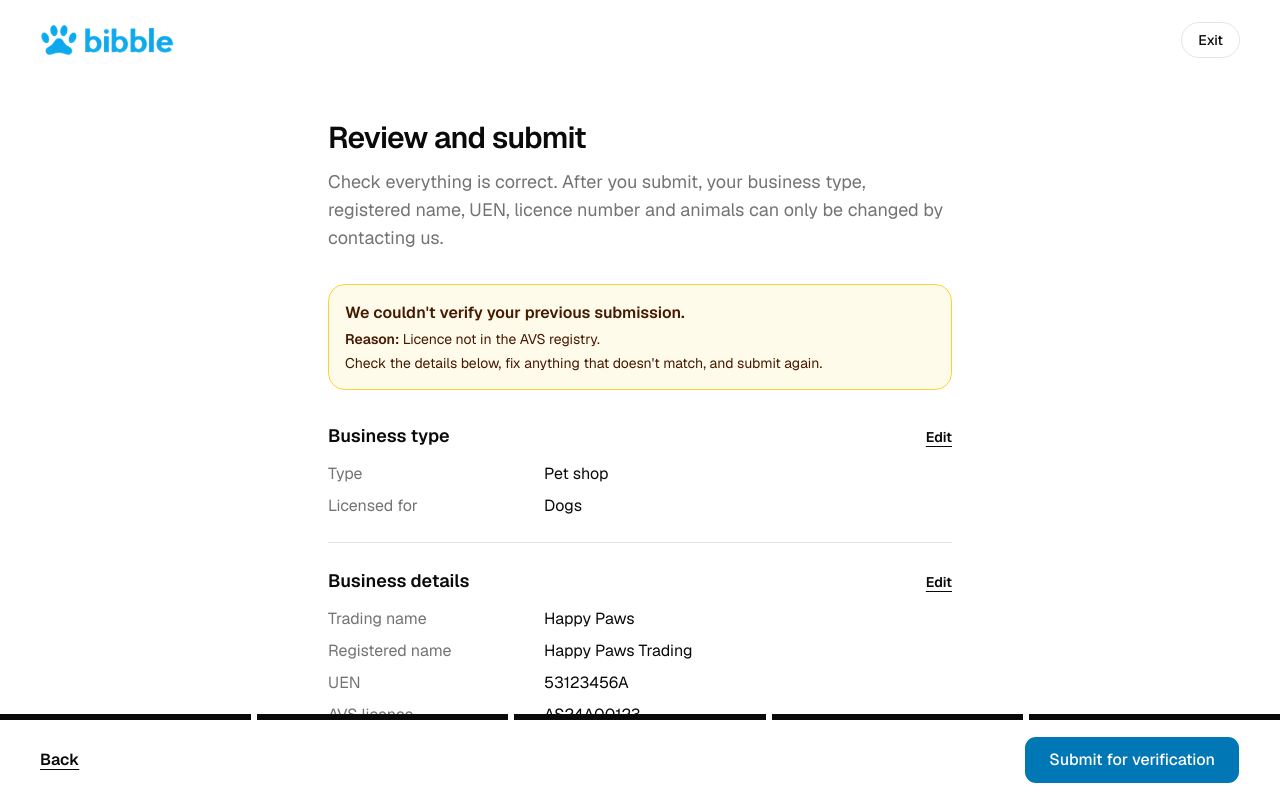
Review step › explains a rejection and shows submit errors
Expected: the text "We couldn't verify your previous submission." is shown, [345,302,685,323]
Step 1. Click the button "Submit for verification" → point(1132, 760), box [1024,736,1240,784]
(page scrolled)
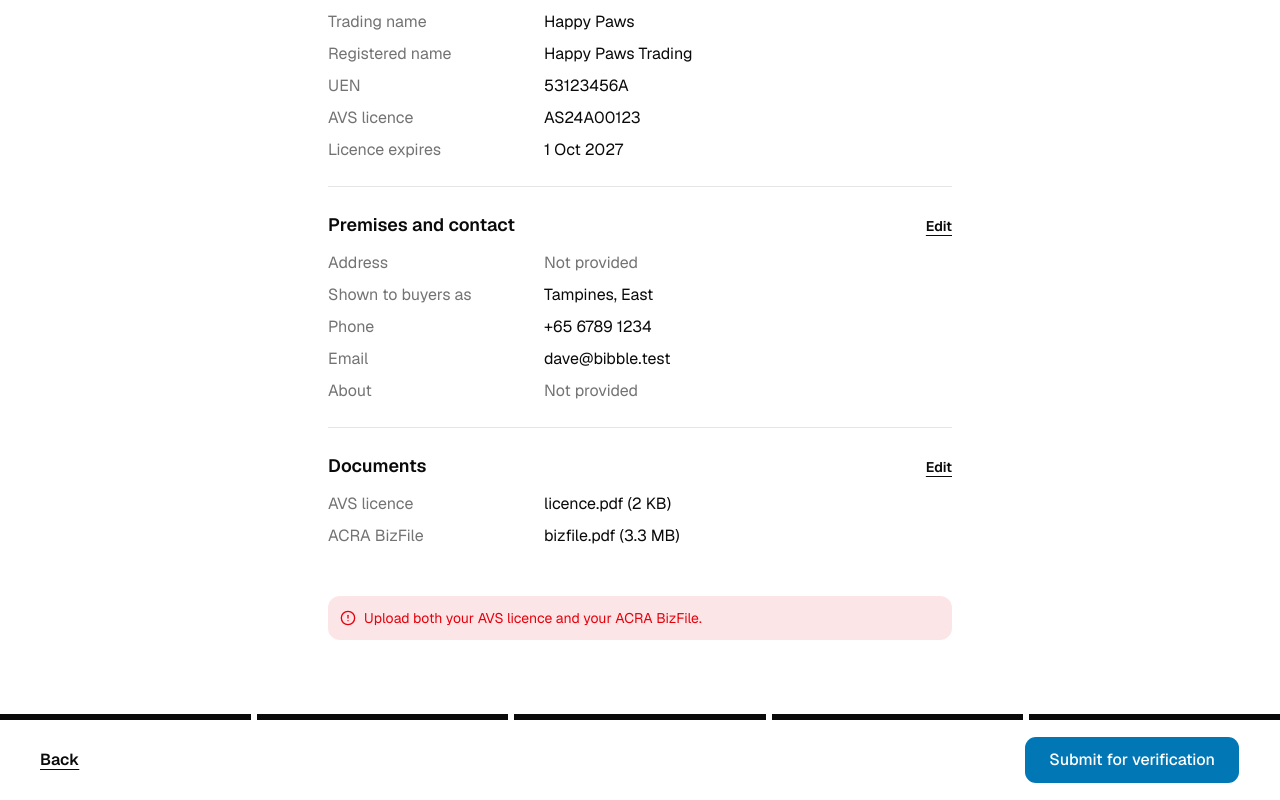
Expected: the message shows "Upload both", [364,609,702,627]
